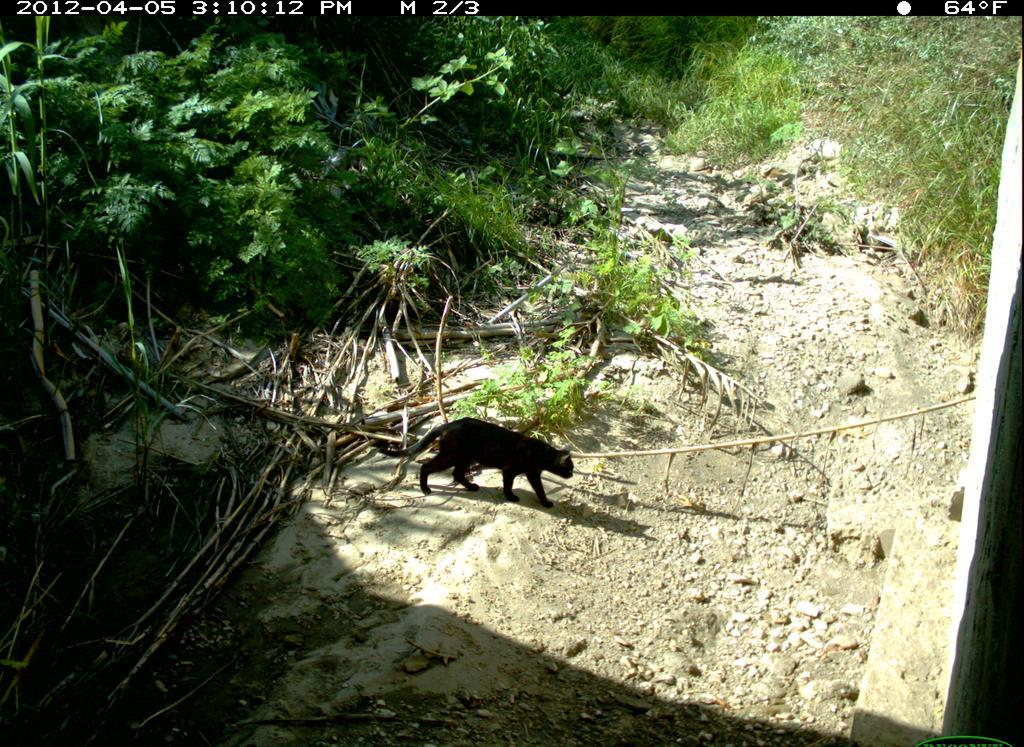cat: (366, 415, 590, 515)
